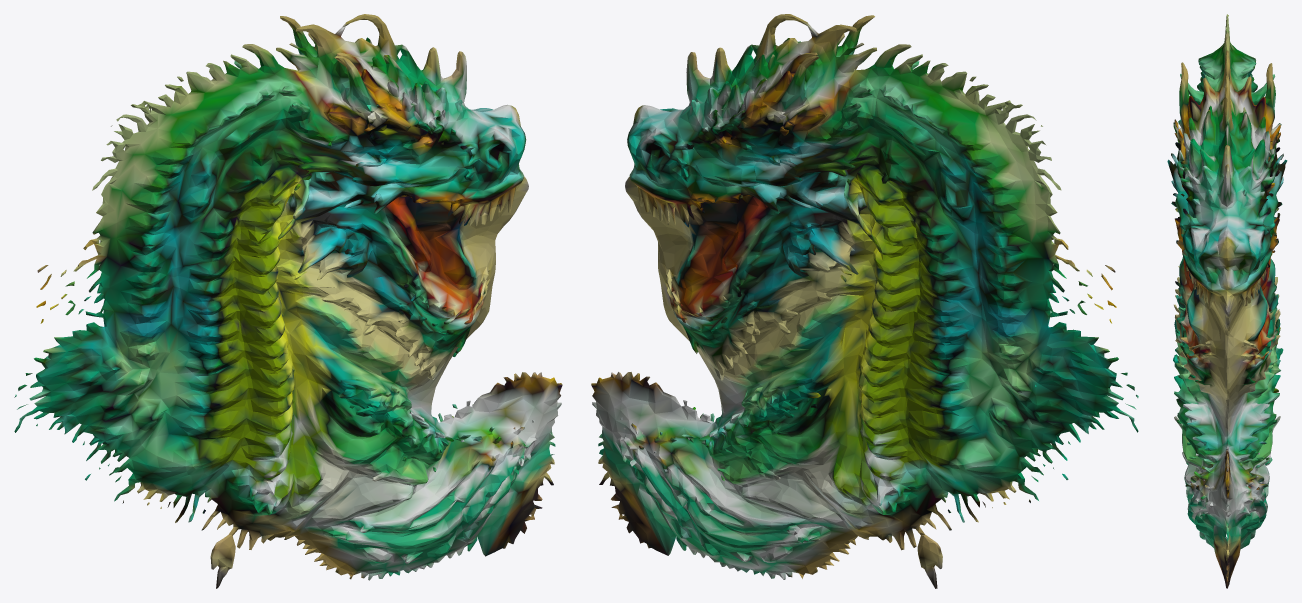
The model's file is iceElemental.glb.
3 views of the same model, side by side, from view 1: azimuth 30°, elevation 25°; view 2: azimuth 150°, elevation 25°; view 3: azimuth 270°, elevation 25° (orthographic). The views are drawn at different scales.
Visible parts, largest first — view 1: world; view 2: world; view 3: world.
Boxes of the visible parts, box(x1,y1,x2,y2) form: world: box(14, 14, 562, 588); world: box(591, 14, 1138, 588); world: box(1167, 14, 1287, 588).
Size of the model in its own units: 0.9977 by 1 by 0.2367.
